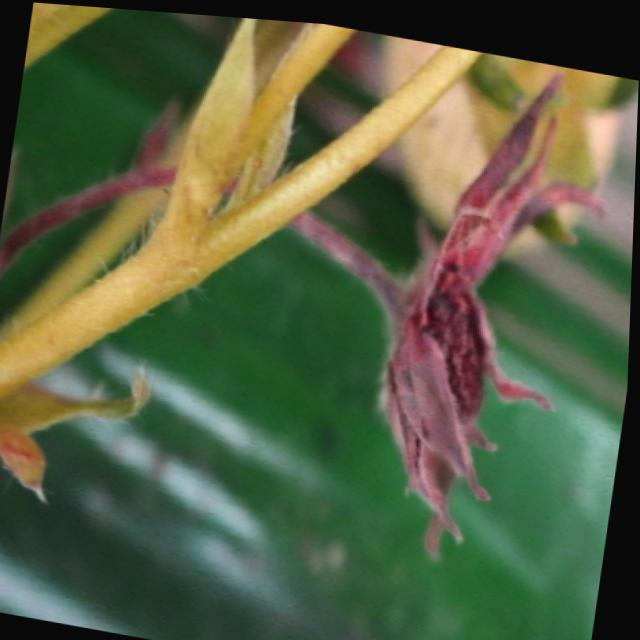Gray Mold: (312, 62, 609, 535)
